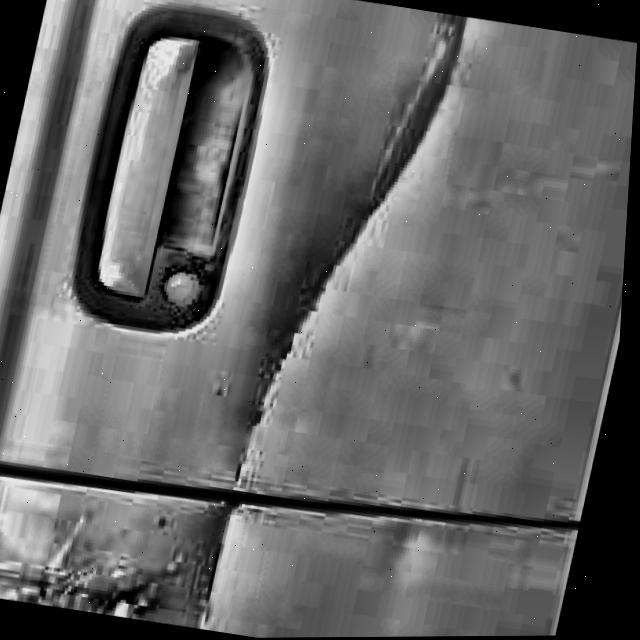door_scratch: (193, 0, 492, 624)
